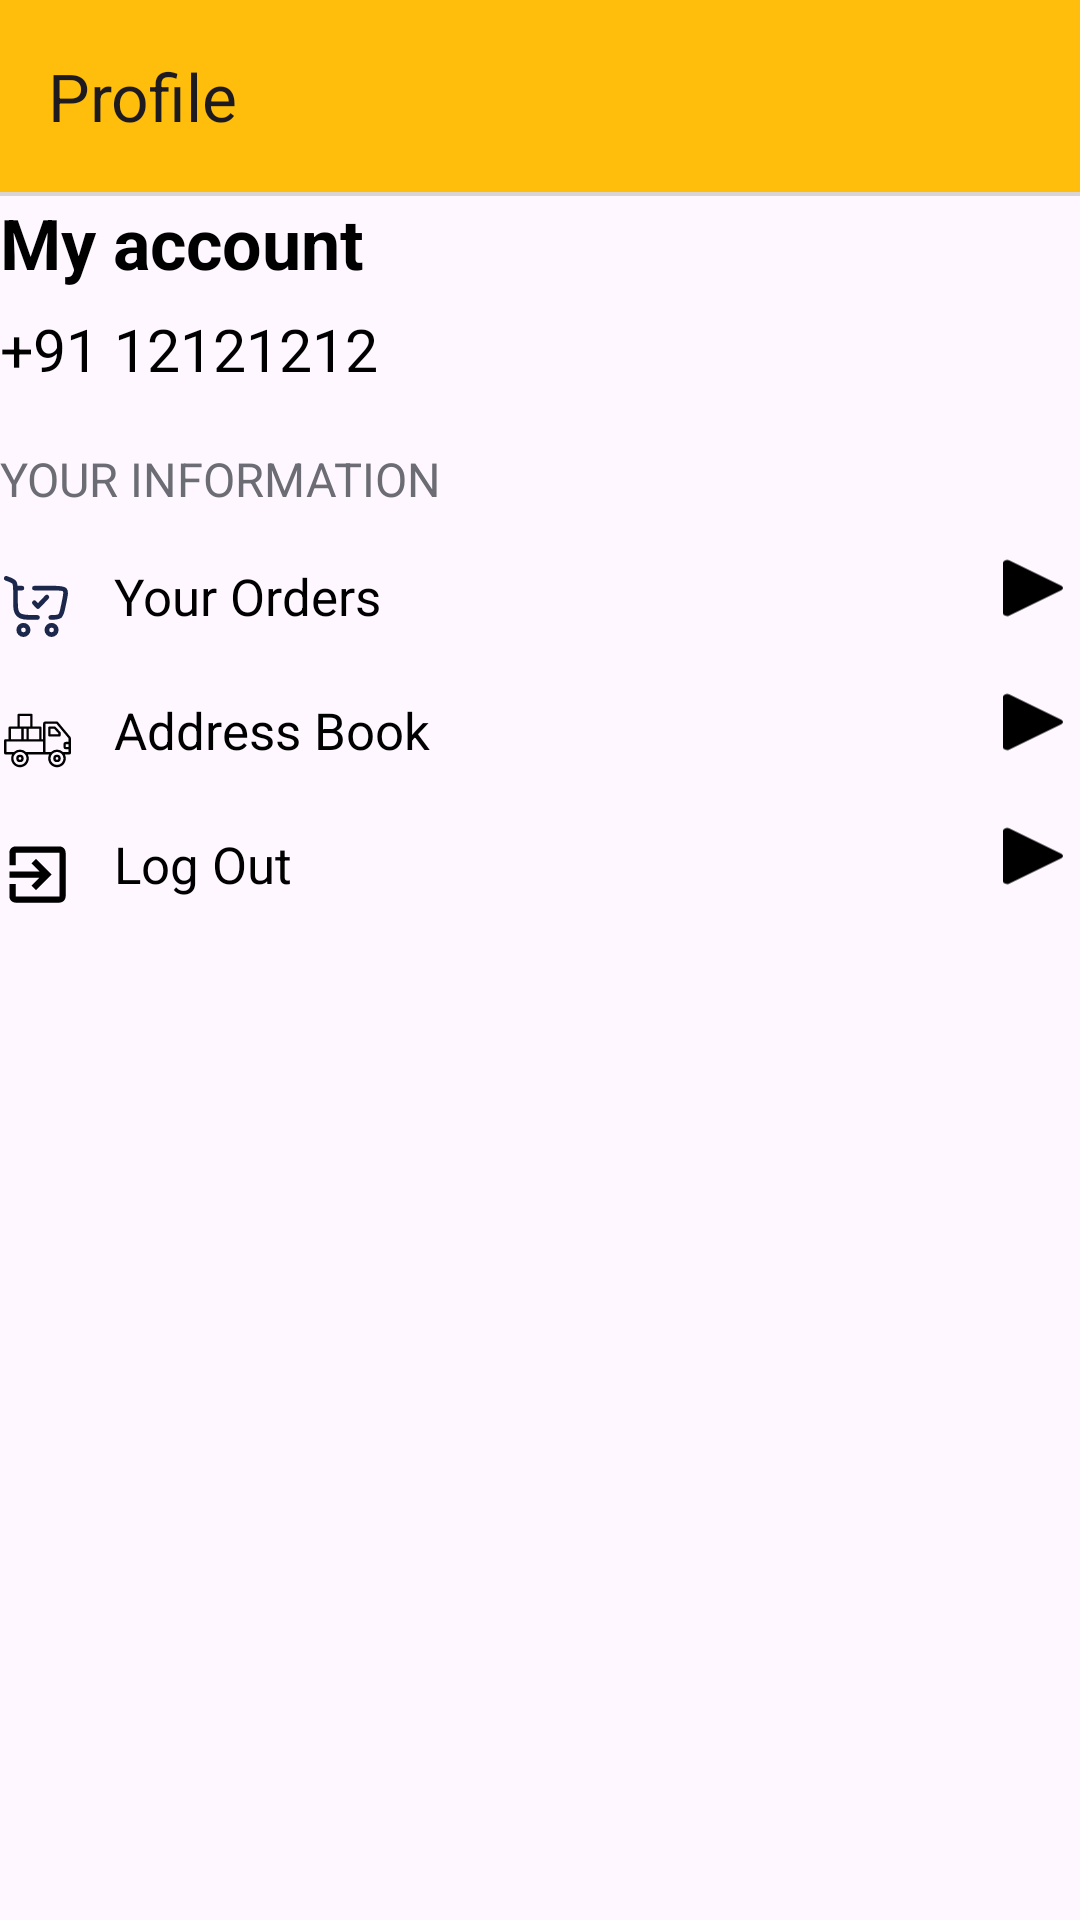

Named icons in this screenshot (1080px×1920px) and their centers, (x,y):
del vehicle: (37,740)
exit to app: (37,874)
ordered: (36,606)
right arrow: (1033,588), (1033,722), (1033,856)
